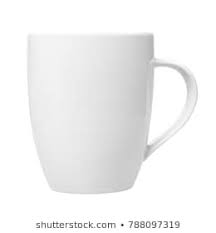cup: (23, 28, 205, 207)
